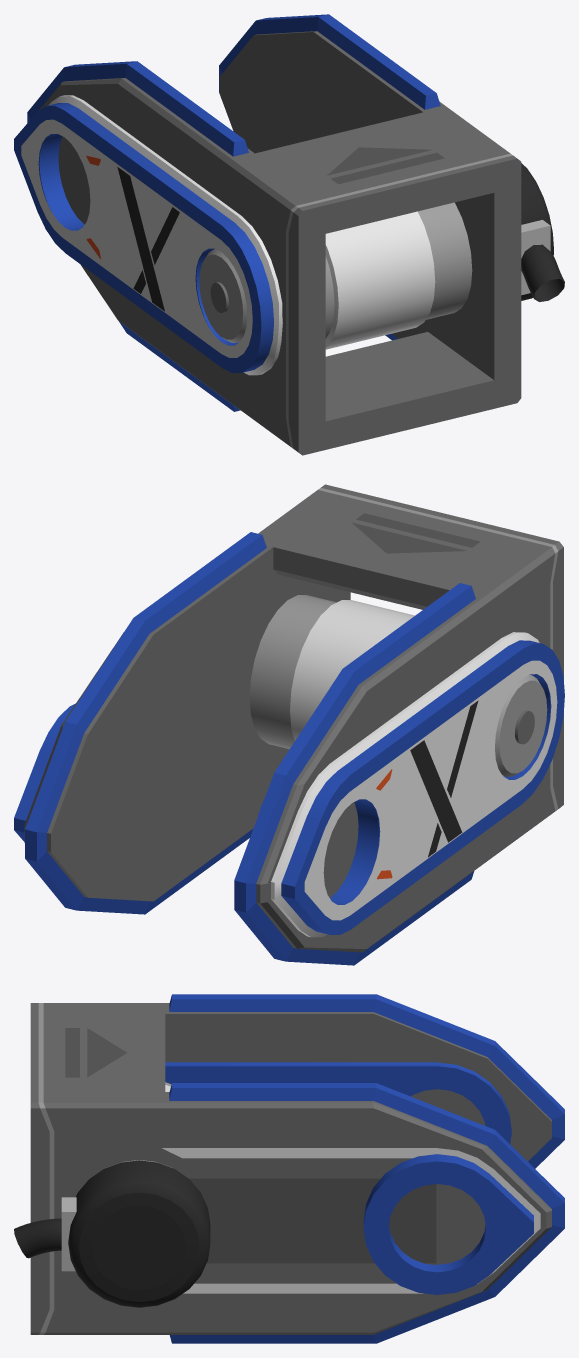
File: drive_RR.glb
3 renders of one model, top to bottom at view 1: azimuth 30°, elevation 25°; view 2: azimuth 150°, elevation 25°; view 3: azimuth 270°, elevation 25°, orthographic. The views are drawn at different scales.
Parts seen in each view (by area): view 1: drive_RR; view 2: drive_RR; view 3: drive_RR.
Boxes of the visible parts, box(x1,y1,x2,y2) form: drive_RR: box(14, 14, 564, 455); drive_RR: box(14, 484, 564, 965); drive_RR: box(14, 994, 564, 1343).
Size of the model in its own units: 0.1121 by 0.0947 by 0.1849.
